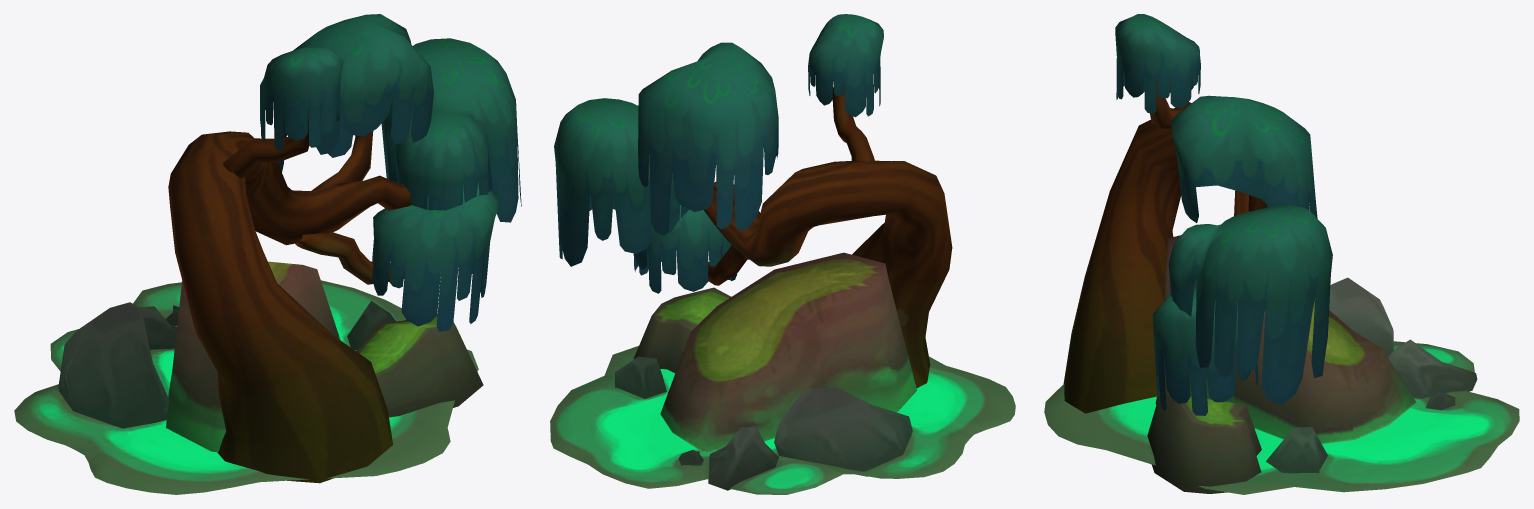
The model's file is BloonariusPrimeOdysseyStatue.fbx.
3 renders of one model, left to right at view 1: azimuth 30°, elevation 25°; view 2: azimuth 150°, elevation 25°; view 3: azimuth 270°, elevation 25°, orthographic. The views are drawn at different scales.
Parts seen in each view (by area): view 1: BloonariusPrimeOdysseyStatue; view 2: BloonariusPrimeOdysseyStatue; view 3: BloonariusPrimeOdysseyStatue.
Part boxes in pixels (bbox=[...]): BloonariusPrimeOdysseyStatue: bbox=[14, 14, 521, 494]; BloonariusPrimeOdysseyStatue: bbox=[550, 14, 1015, 494]; BloonariusPrimeOdysseyStatue: bbox=[1044, 14, 1519, 494].
Bounding box in the file's own units: 23.71 × 19.5 × 22.22.
